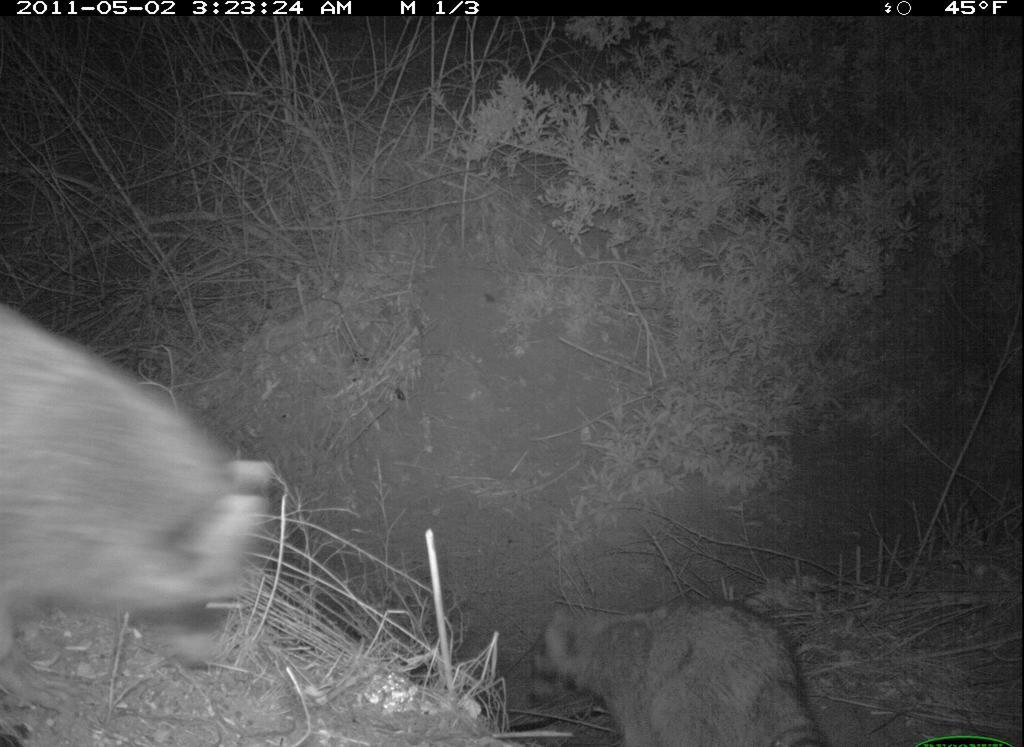raccoon: (1, 295, 308, 706), (518, 589, 861, 747)
